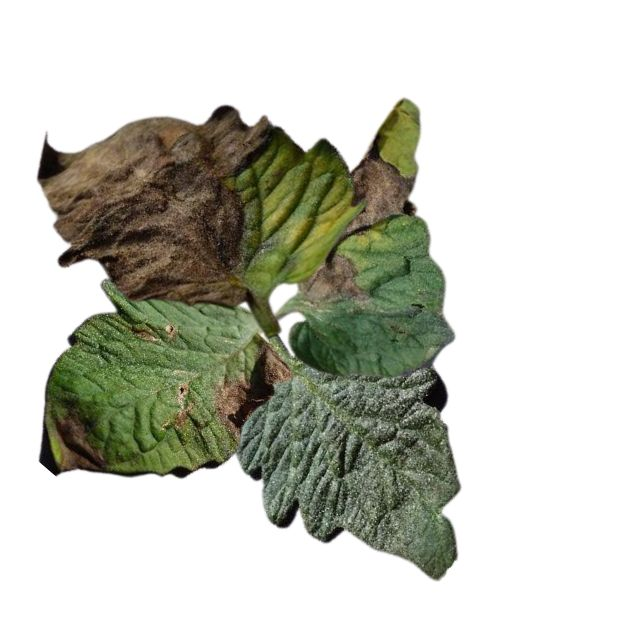Late_blight: (39, 105, 279, 309), (340, 138, 417, 239), (215, 344, 289, 440), (290, 250, 369, 308), (45, 407, 106, 473), (128, 321, 179, 347), (169, 383, 192, 434)
